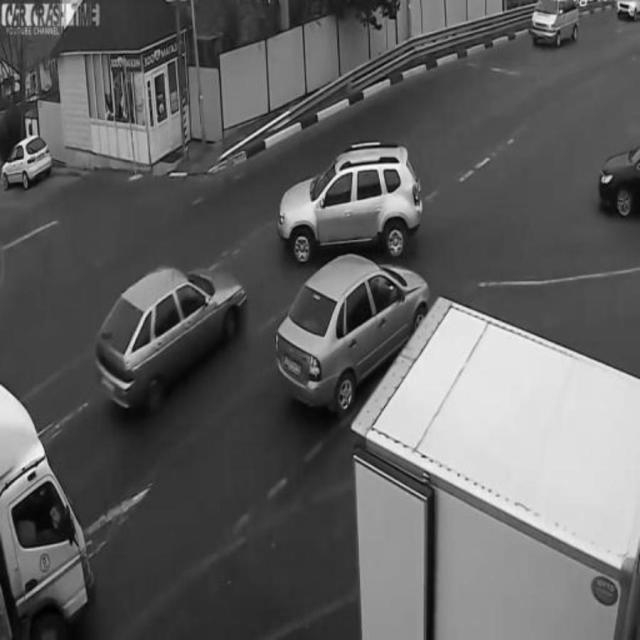vehicle: (273, 250, 427, 407), (95, 259, 249, 406), (0, 387, 92, 633), (279, 142, 429, 258), (596, 141, 640, 222), (1, 133, 53, 193), (528, 0, 582, 55)
